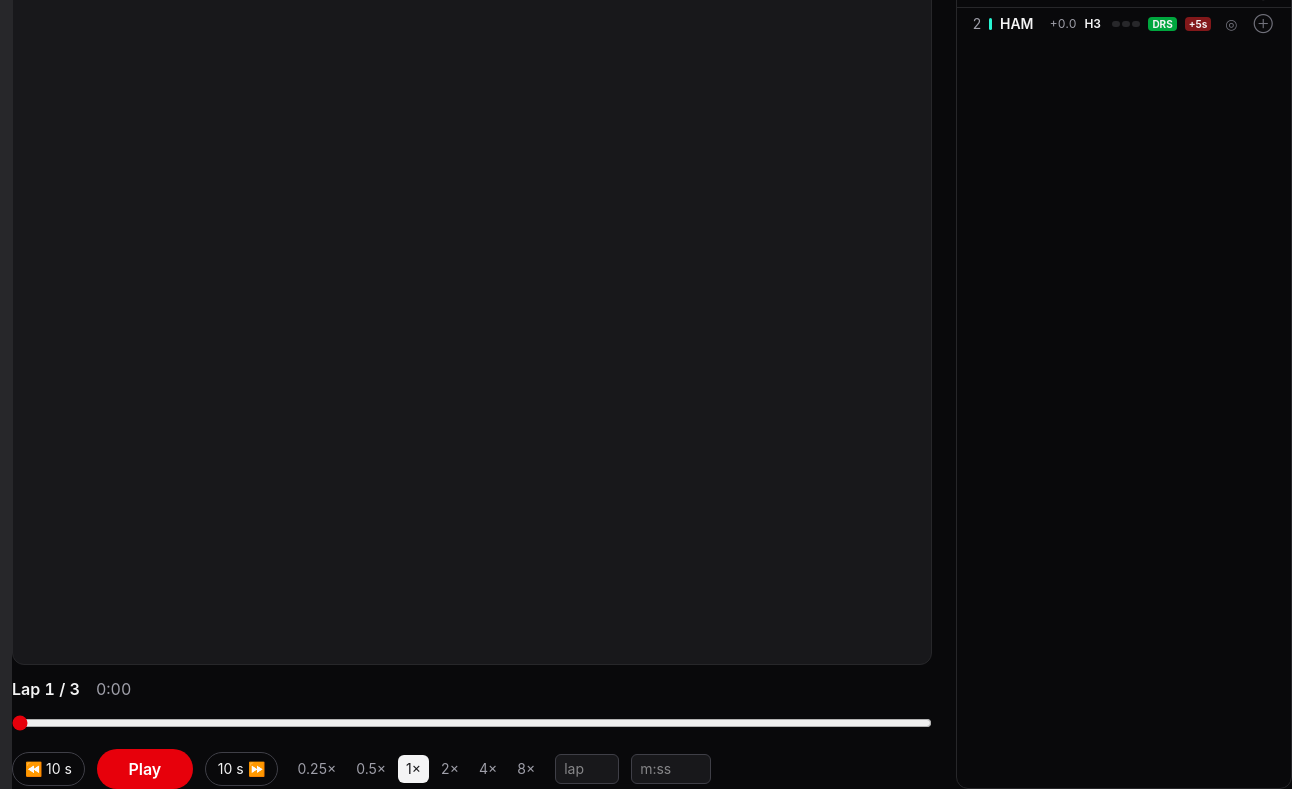
Scenario: overlays › the leaderboard: gap to the car ahead, tyres and their age, DRS, penalties
(page scrolled)
Click the button "Play".
click(145, 768)  # box 97,748 -> 193,788
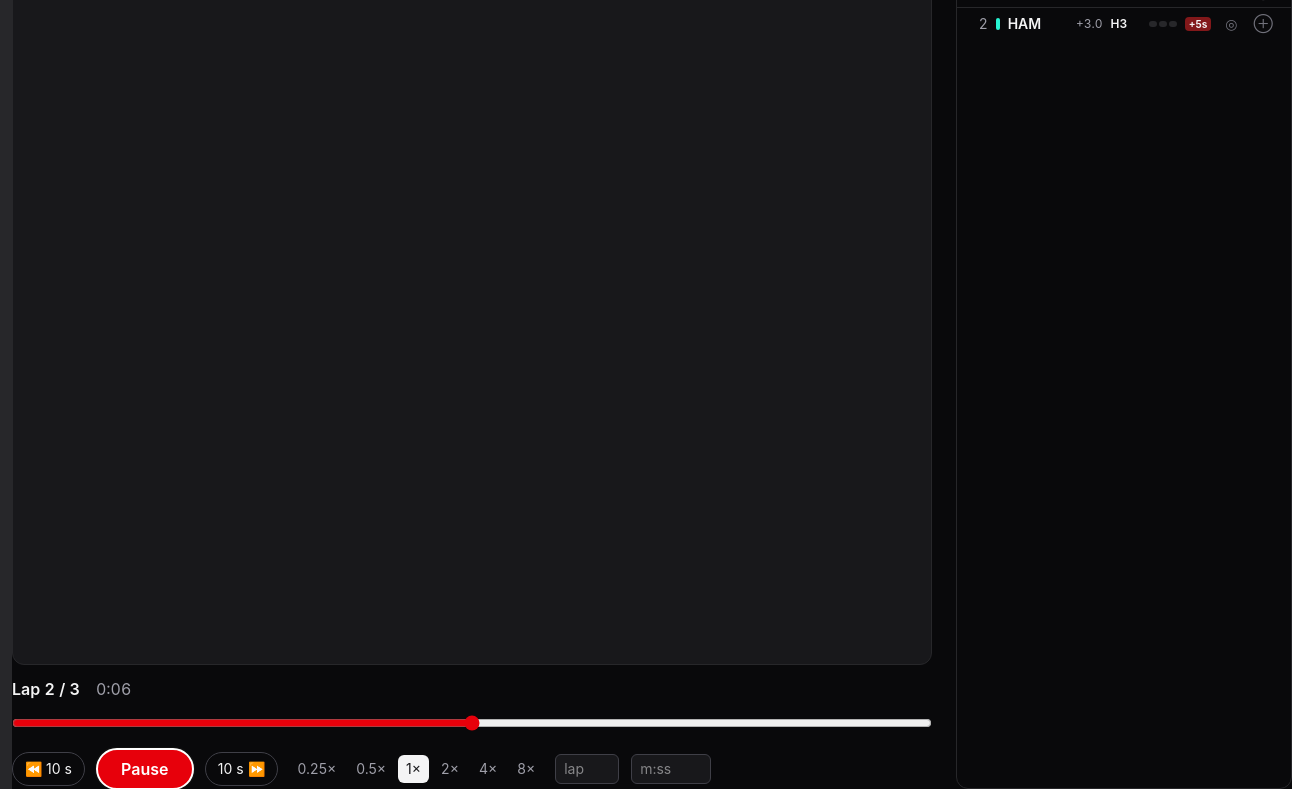
Result: the list item "2 HAM +3.0 H3 +5s ◎ ⊕" is shown at 957,8 -> 1291,40
Result: the list item "2 HAM +3.0 H3 +5s ◎ ⊕" no longer shows "DRS" at 957,8 -> 1291,40
